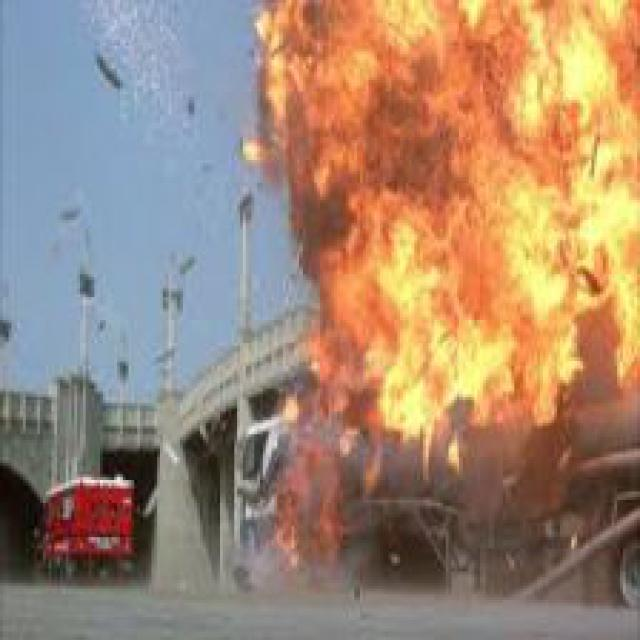fire: (234, 3, 637, 577)
